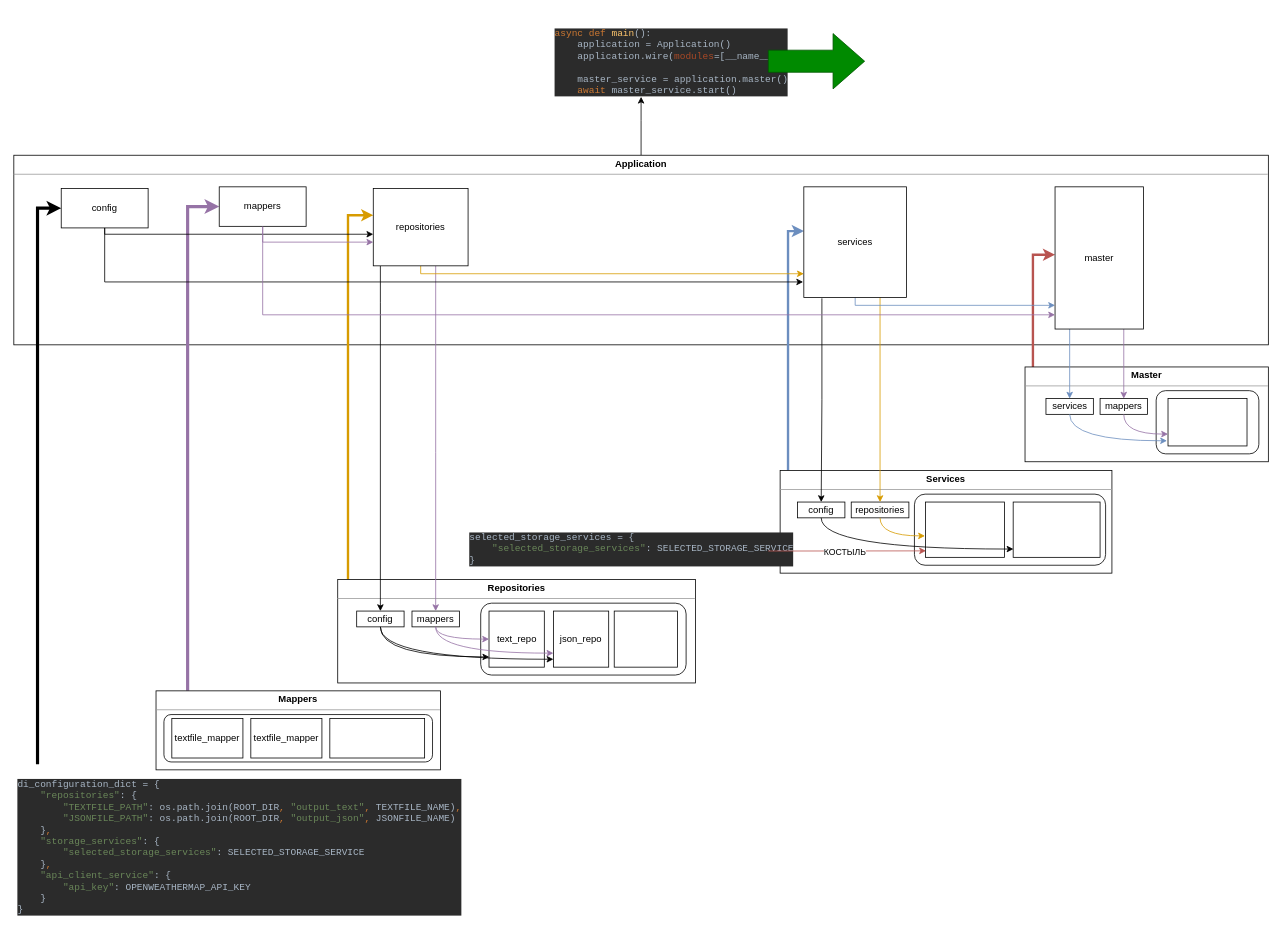
Image size: 1282x939. Some labels were removed from this diagram. Here are the shapes that lost their labels. From the top down, the centre of each, then its label:
At (1207,422): "master_service".
At (964,529): "storage_services".
At (1056,529): "api_client_service".
At (645,638): "weather_uow".
At (377,738): "client_server_mapper".
